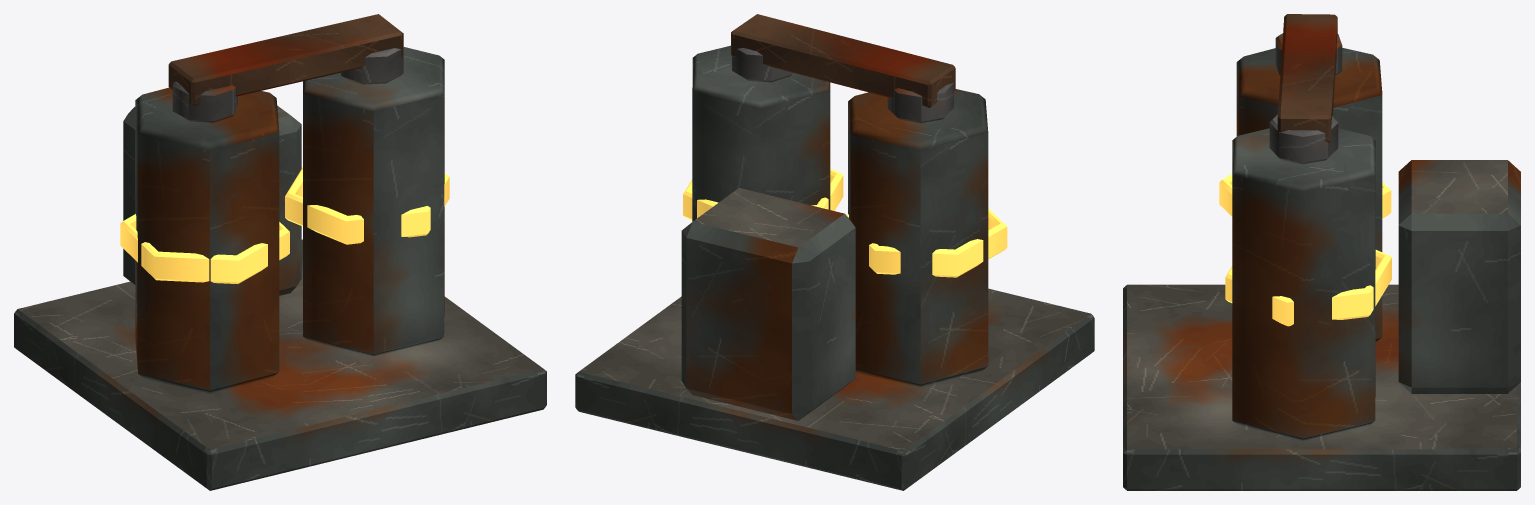
Rendered from R4X_Battery_LOD1.glb.
3 renders of one model, left to right at view 1: azimuth 30°, elevation 25°; view 2: azimuth 150°, elevation 25°; view 3: azimuth 270°, elevation 25°, orthographic. The views are drawn at different scales.
Parts seen in each view (by area): view 1: R4X_Battery_LOD1; view 2: R4X_Battery_LOD1; view 3: R4X_Battery_LOD1.
Boxes of the visible parts, box(x1,y1,x2,y2) form: R4X_Battery_LOD1: box(14, 14, 546, 490); R4X_Battery_LOD1: box(575, 14, 1094, 490); R4X_Battery_LOD1: box(1123, 14, 1520, 490).
Bounding box in the file's own units: 0.52 × 0.495 × 0.52.
5 materials, 4 textured.
